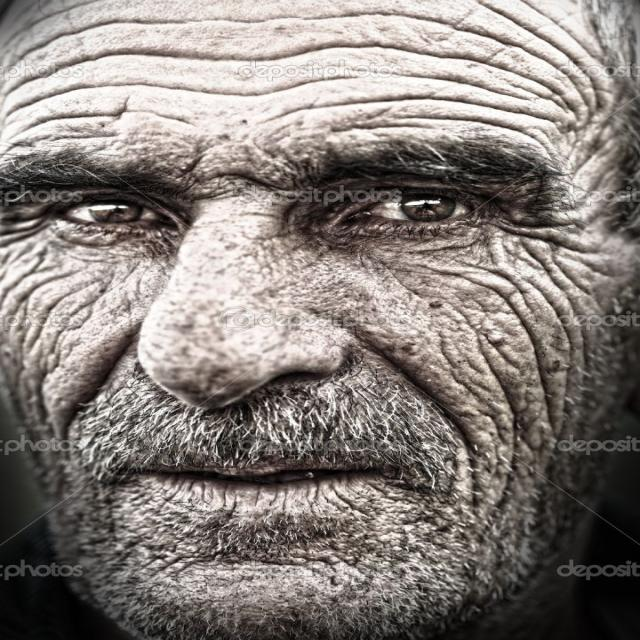front: (0, 93, 584, 615)
